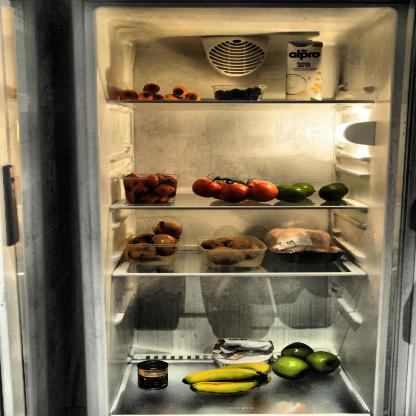apple: (270, 341, 342, 381)
banana: (182, 362, 273, 397)
blueberries: (210, 84, 272, 102)
carrot: (116, 82, 202, 103)
chicken: (265, 226, 346, 264)
corn: (138, 358, 168, 391)
lime: (275, 182, 355, 204)
milk: (286, 41, 326, 102)
onion: (126, 216, 184, 262)
potato: (200, 234, 262, 268)
strawberries: (119, 170, 178, 204)
tomato: (189, 173, 280, 203)
